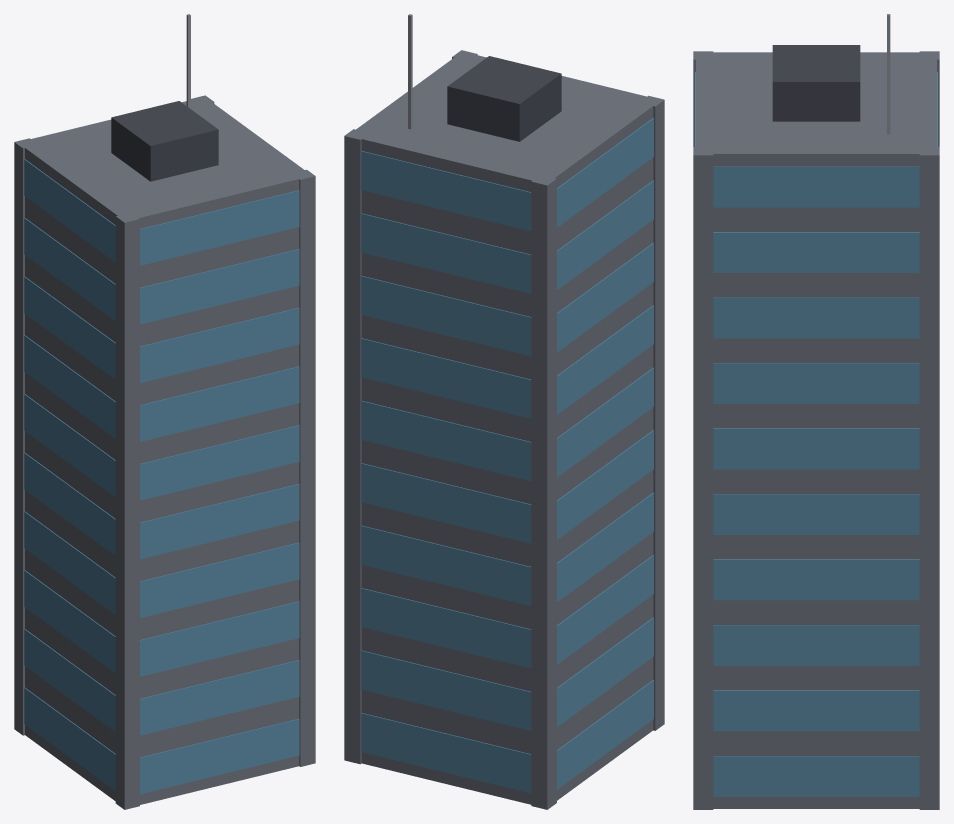
The model's file is highrise_e.obj.
3 views of the same model, side by side, from view 1: azimuth 30°, elevation 25°; view 2: azimuth 150°, elevation 25°; view 3: azimuth 270°, elevation 25° (orthographic). The views are drawn at different scales.
Visible parts, largest first — view 1: Cube; view 2: Cube; view 3: Cube.
Part boxes in pixels (x1,y1,x2,y2): Cube: [14, 14, 315, 809]; Cube: [344, 14, 664, 809]; Cube: [693, 14, 939, 809].
Bounding box in the file's own units: 11.24 × 39 × 11.24.
